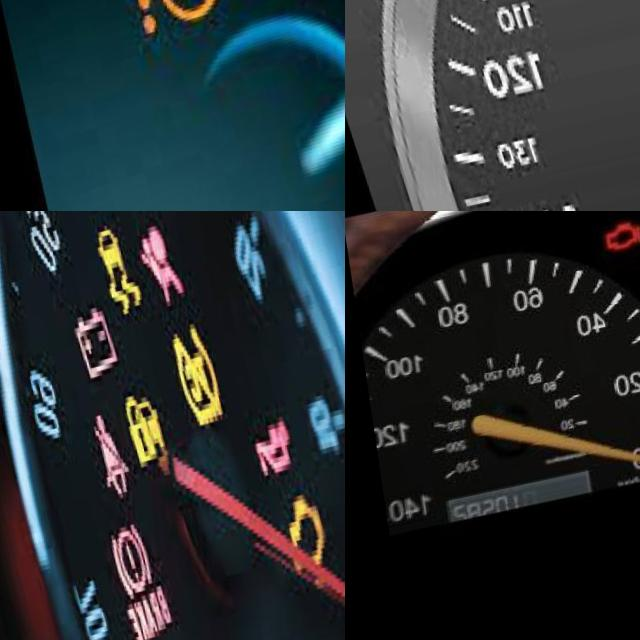Electronic Power Steering: (111, 0, 223, 53)
Seat Belt: (85, 420, 124, 506)
